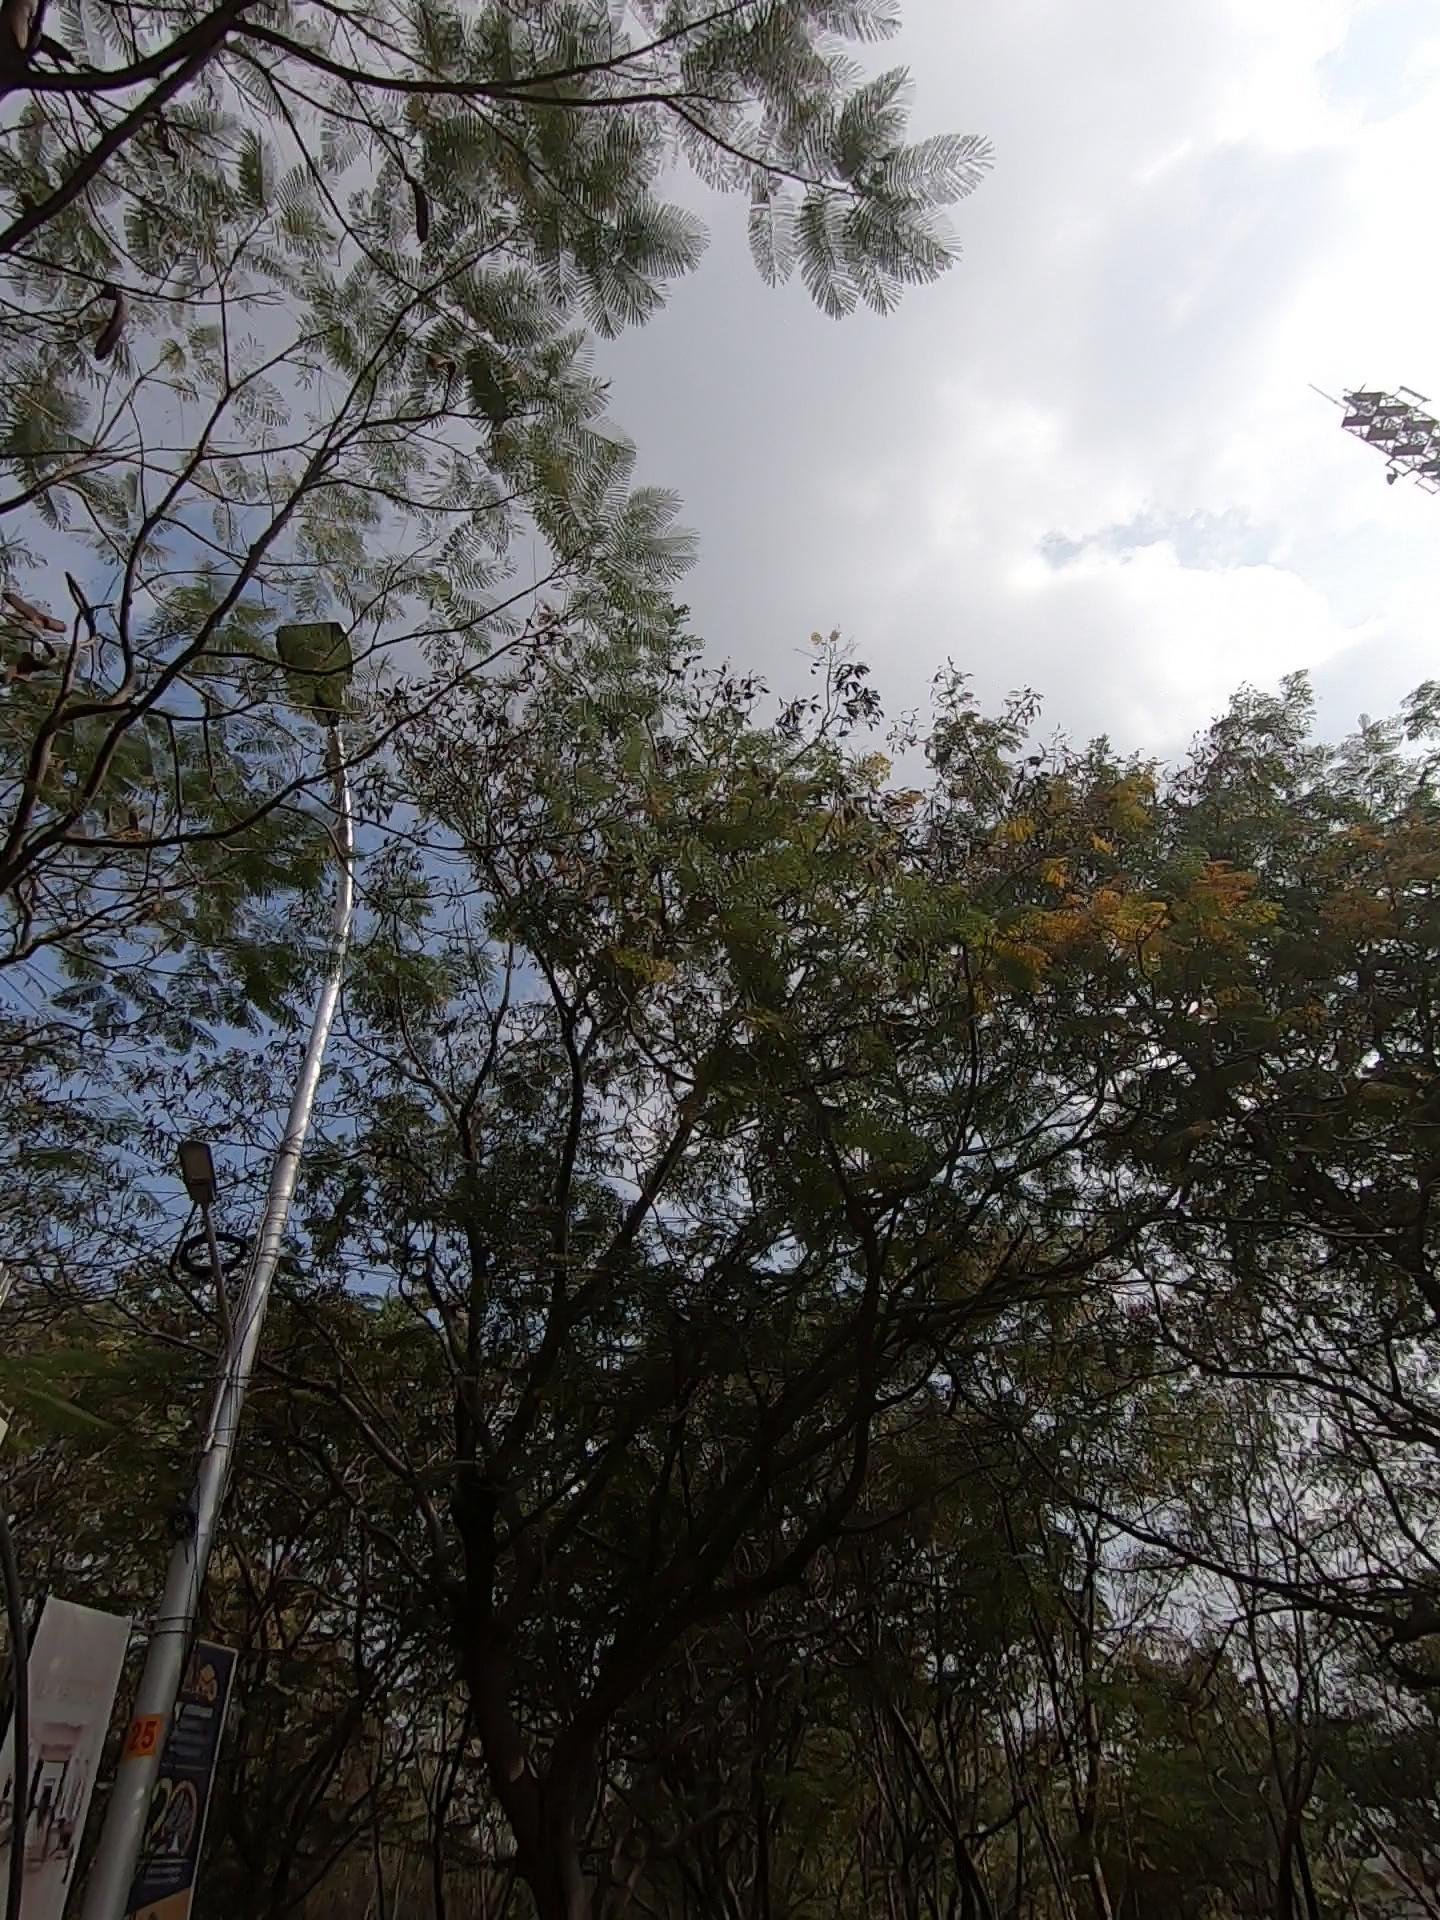off: (225, 587, 548, 987)
